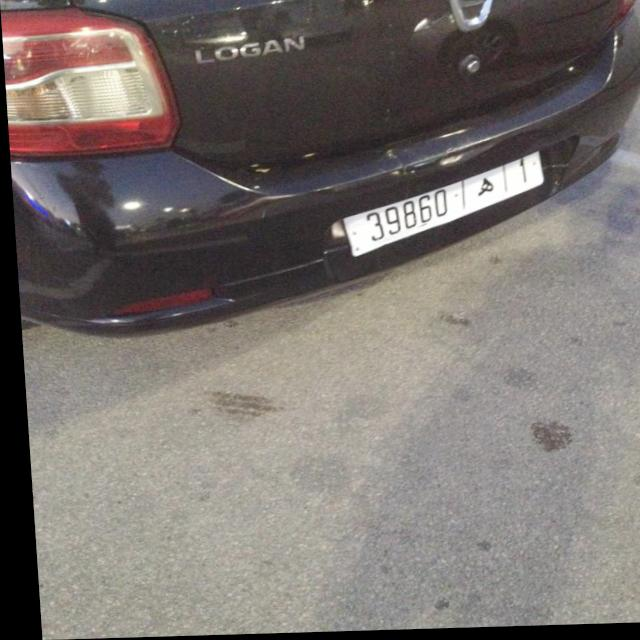License-Plate: (341, 155, 542, 258)
